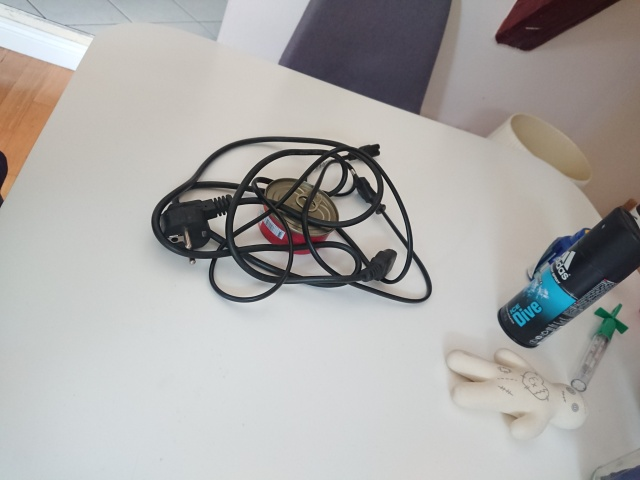Gavrilovic Pork Liver Pate 100g: (255, 175, 342, 256)
